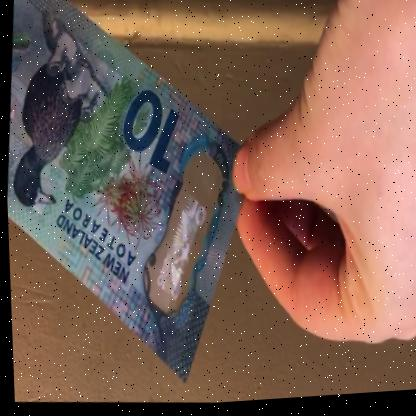10F: (148, 185, 211, 311)
